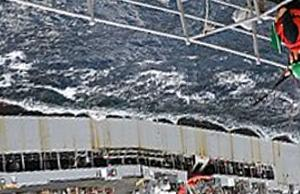rust: (229, 135, 285, 163), (180, 130, 210, 159), (32, 118, 55, 149), (90, 121, 117, 144)
